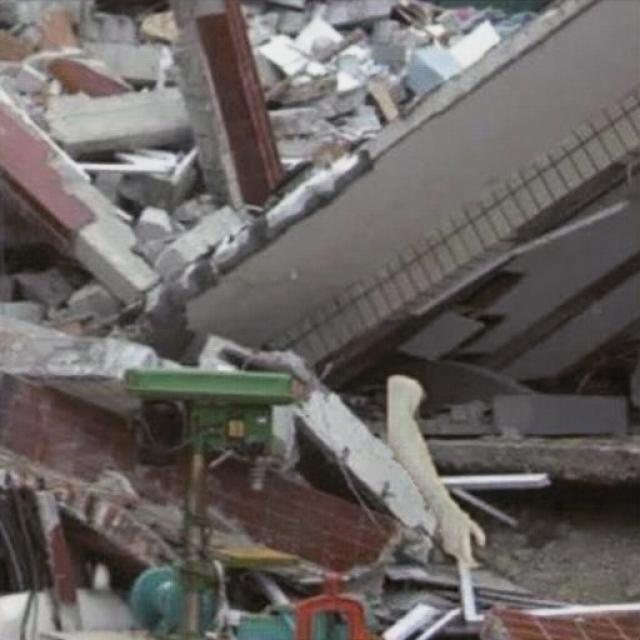Person in Rubble: (388, 374, 483, 568)
